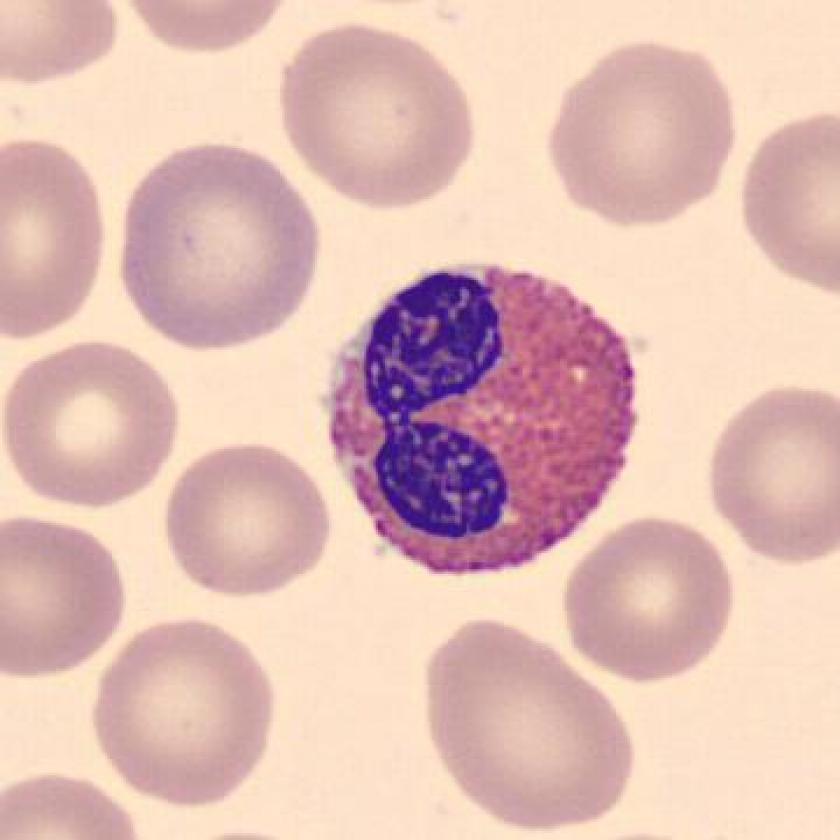eosinophil: (316, 251, 647, 591)
